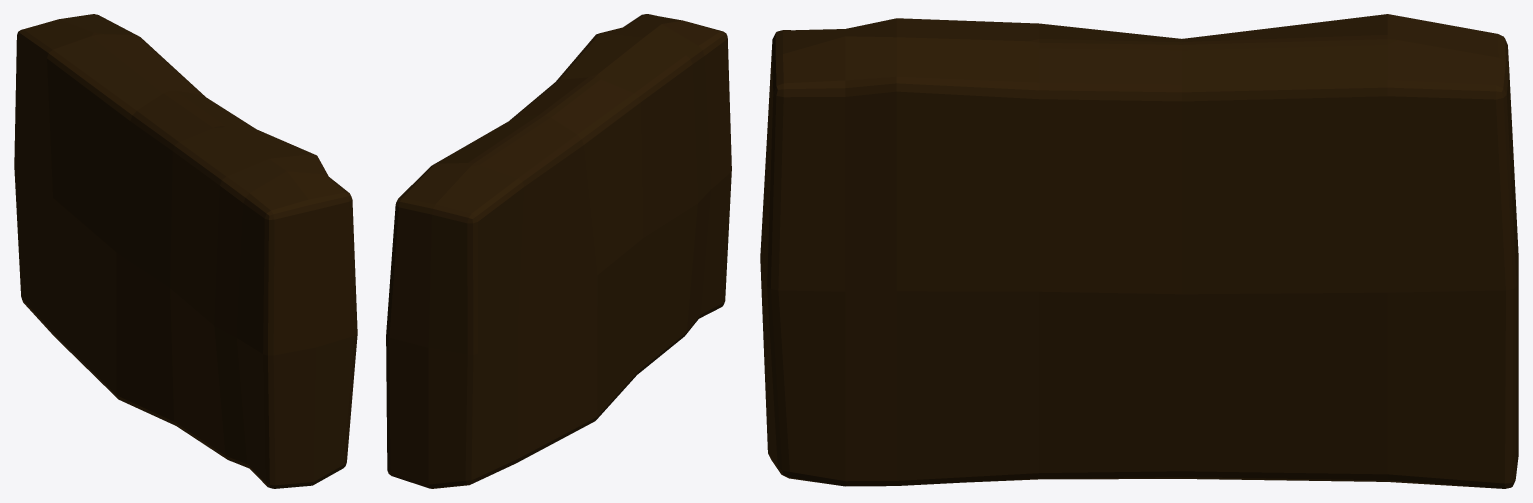
File: Wall piece 13.fbx
3 renders of one model, left to right at view 1: azimuth 30°, elevation 25°; view 2: azimuth 150°, elevation 25°; view 3: azimuth 270°, elevation 25°, orthographic. The views are drawn at different scales.
Parts seen in each view (by area): view 1: wall piece 13O; view 2: wall piece 13O; view 3: wall piece 13O.
Boxes of the visible parts, x1,y1,x2,y2 form: wall piece 13O: (14, 14, 357, 488); wall piece 13O: (386, 14, 731, 488); wall piece 13O: (760, 14, 1518, 488).
Size of the model in its own units: 172 by 737 by 469.
